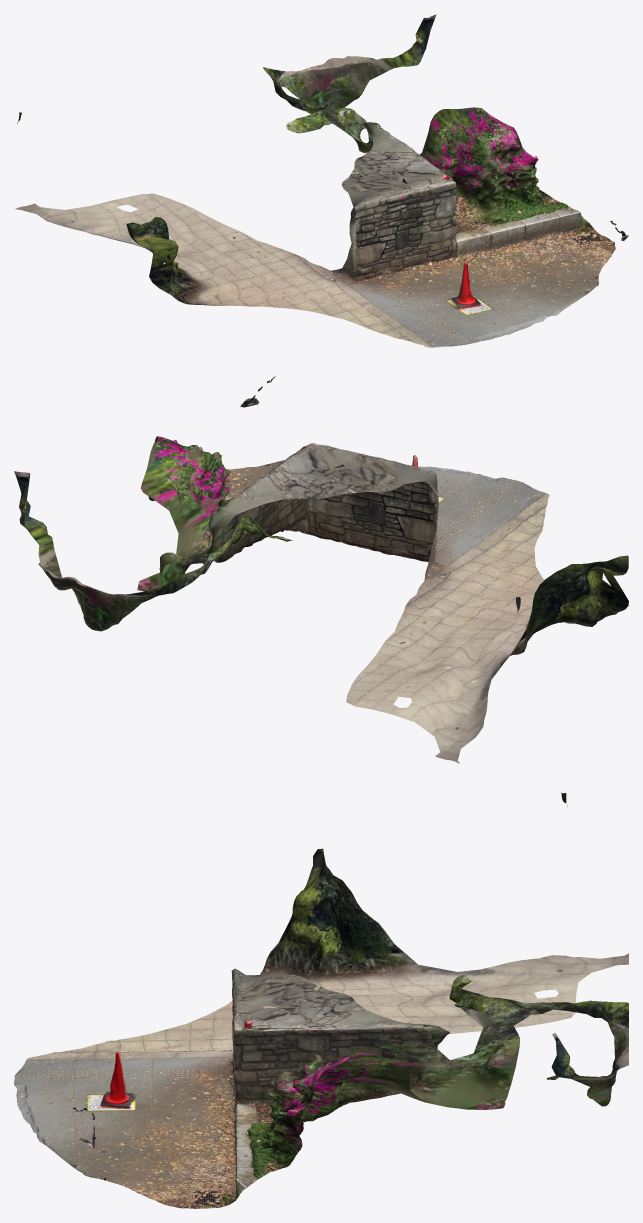
3 views of the same model, one above another, from view 1: azimuth 30°, elevation 25°; view 2: azimuth 150°, elevation 25°; view 3: azimuth 270°, elevation 25° (orthographic). The views are drawn at different scales.
Visible parts, largest first — view 1: baked_mesh_d913aeff; view 2: baked_mesh_d913aeff; view 3: baked_mesh_d913aeff.
Part boxes in pixels (<box>): baked_mesh_d913aeff: <box>15,14,628,347</box>; baked_mesh_d913aeff: <box>14,376,628,763</box>; baked_mesh_d913aeff: <box>14,792,628,1208</box>.
Bounding box in the file's own units: 2.81 × 0.7663 × 2.76.
Materials: 1 (1 with a texture image).
